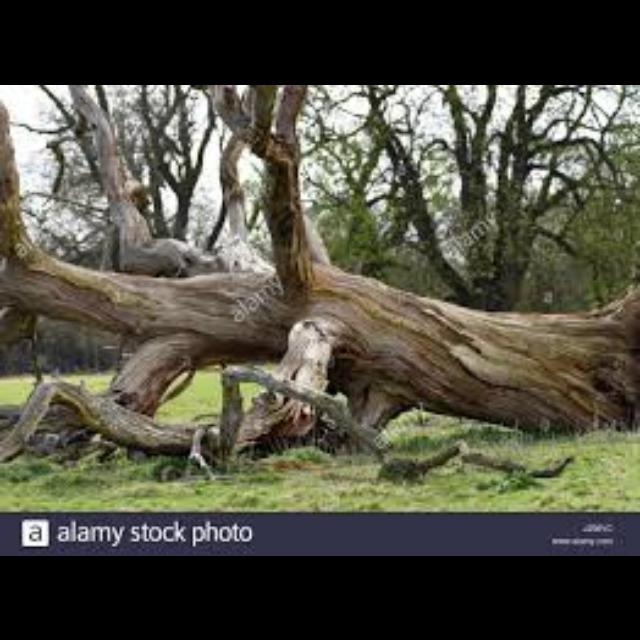Fallen Tree: (148, 270, 640, 432)
